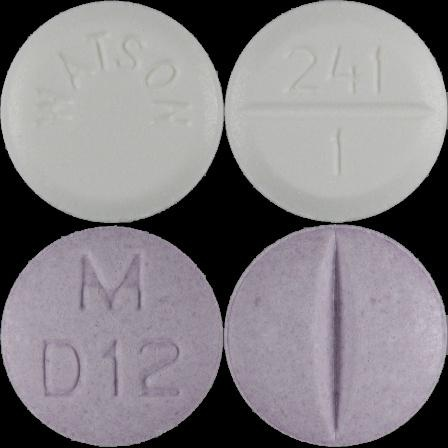67544-261: (0, 0, 224, 224)
